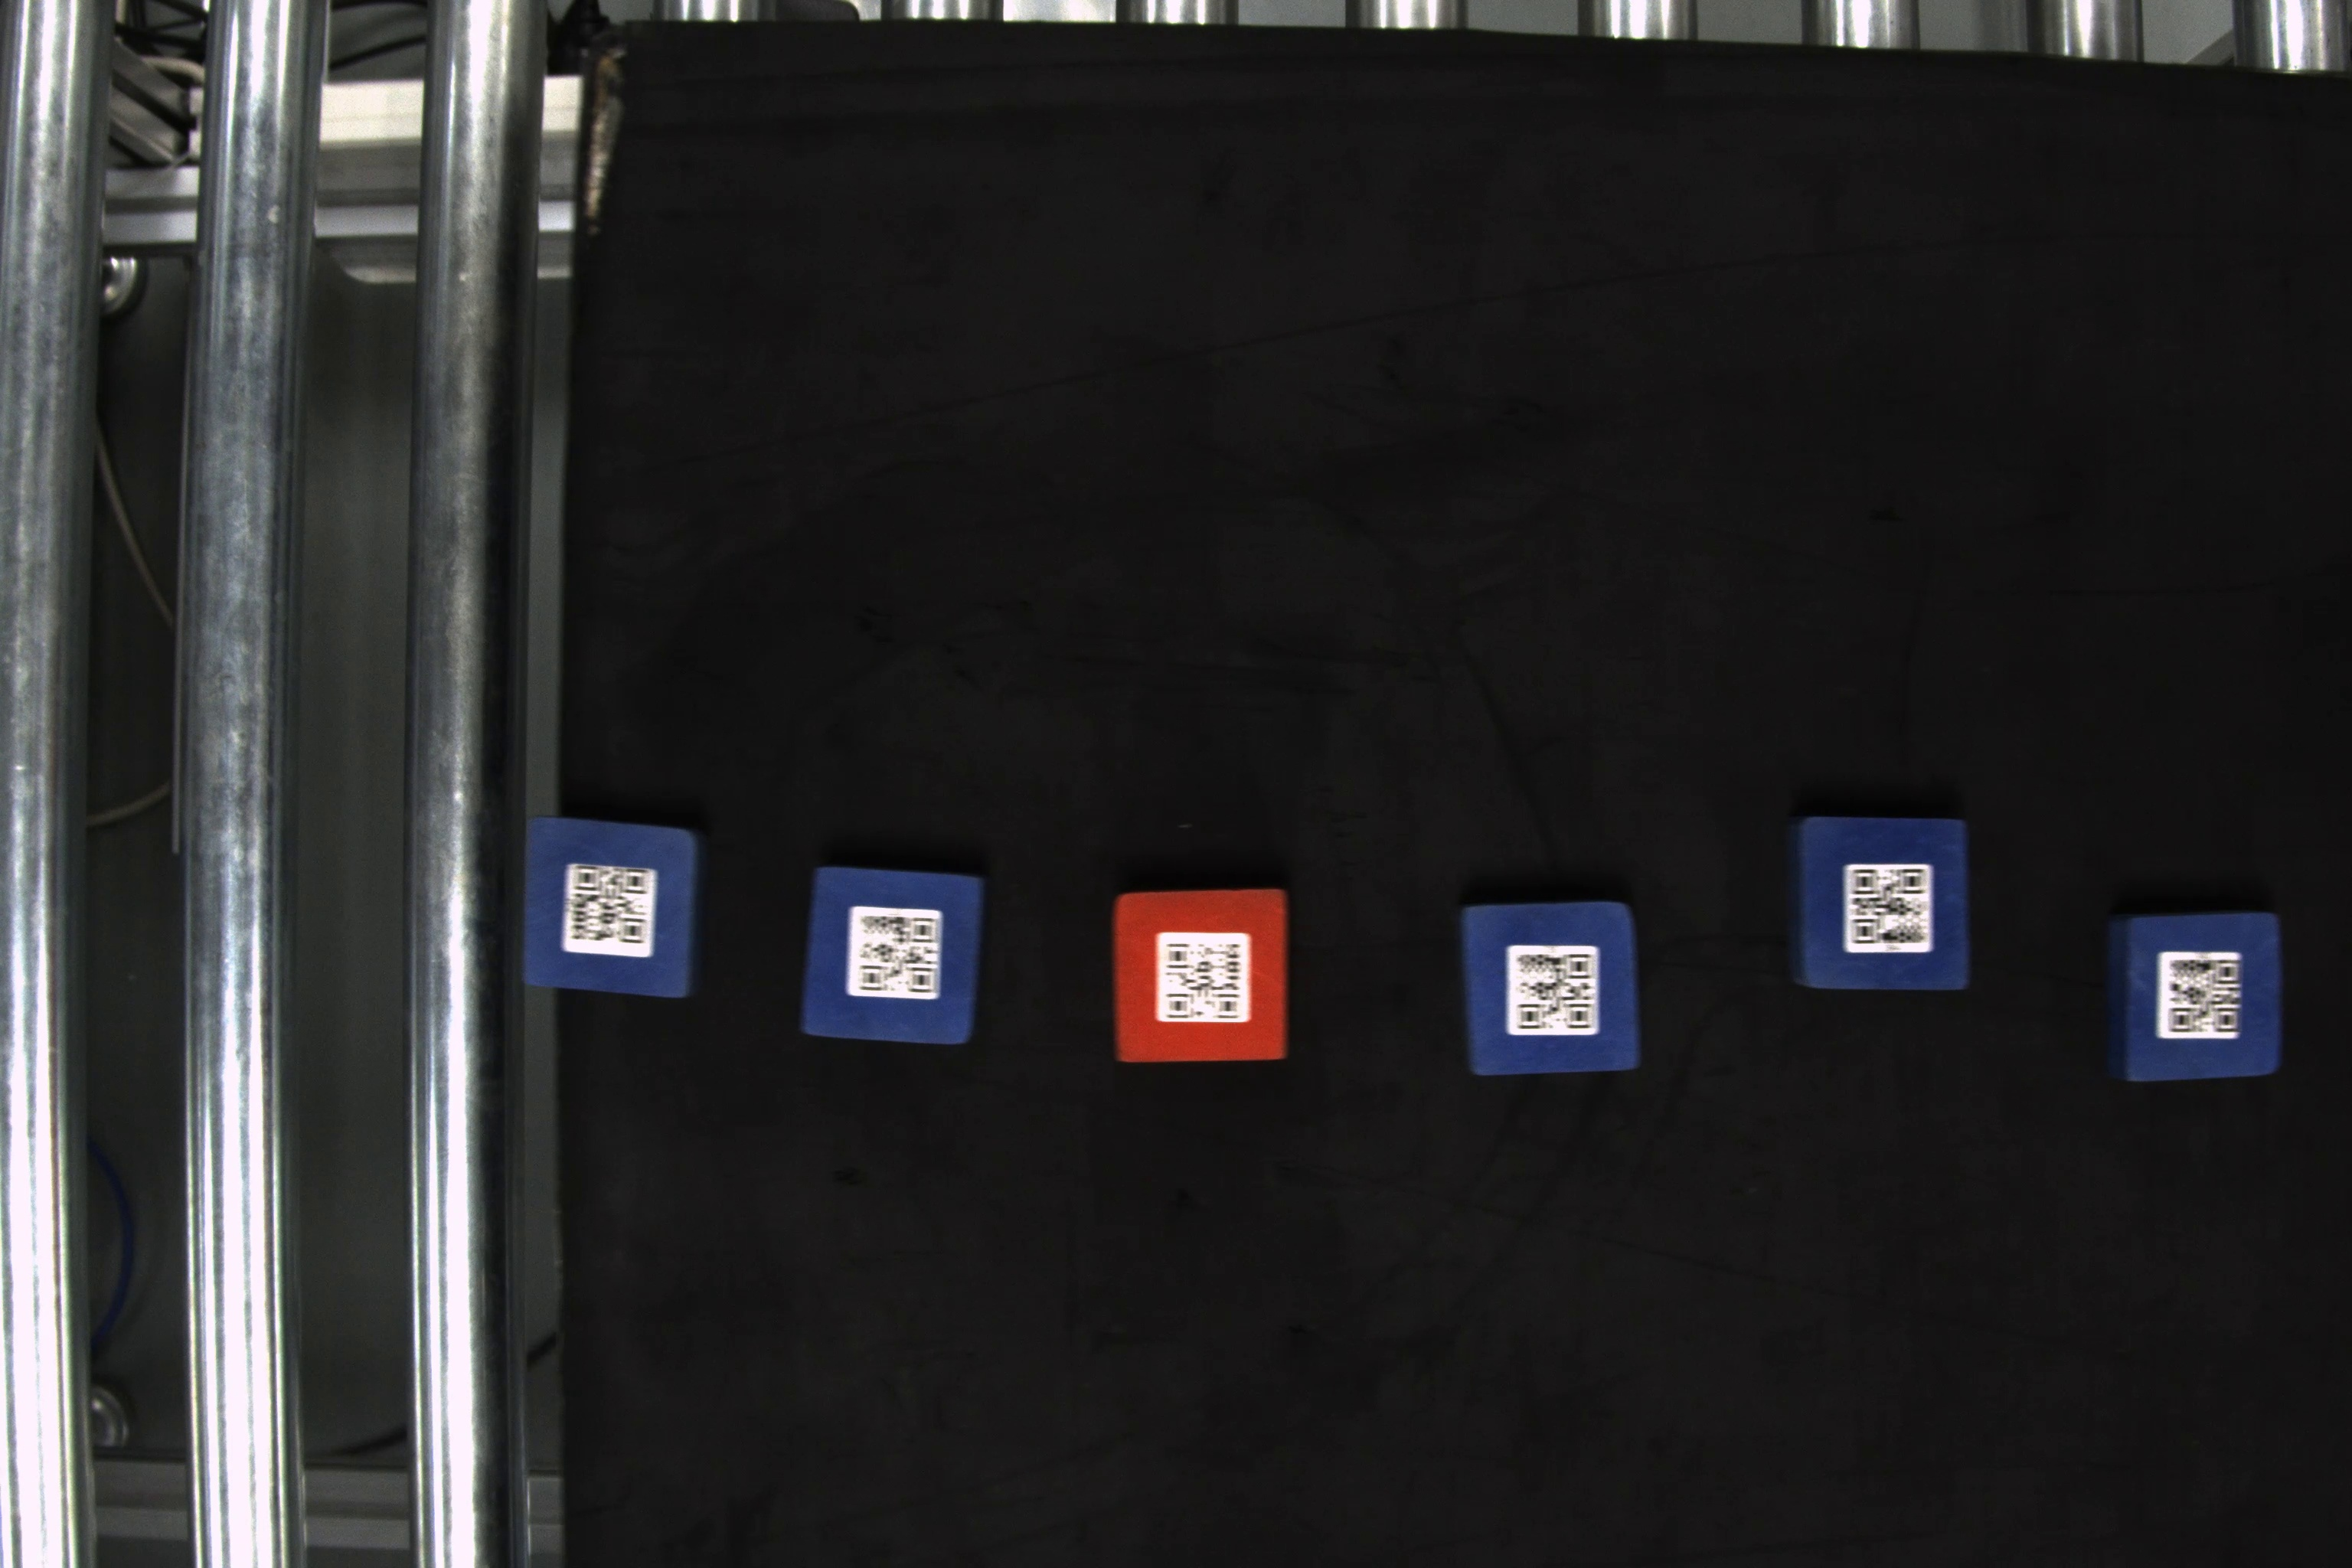wood: (520, 810, 717, 1004), (796, 859, 990, 1050), (1111, 884, 1293, 1066), (1790, 815, 1972, 996), (2105, 910, 2289, 1087), (1458, 901, 1647, 1073)
